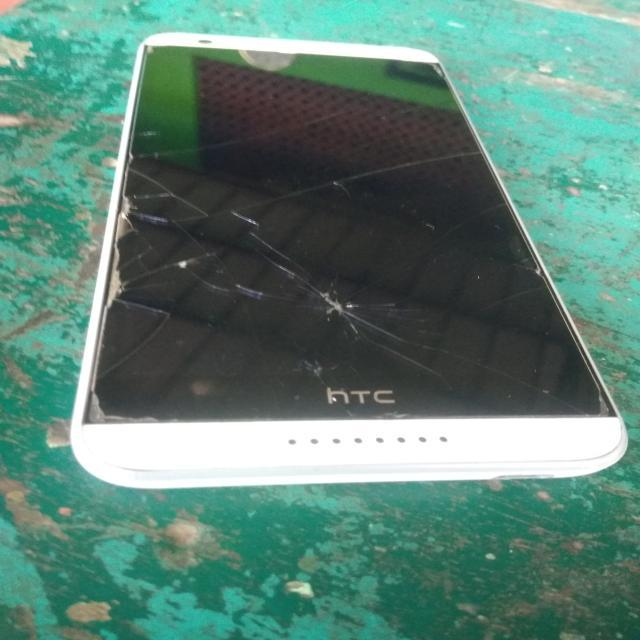phone: (68, 13, 636, 530)
